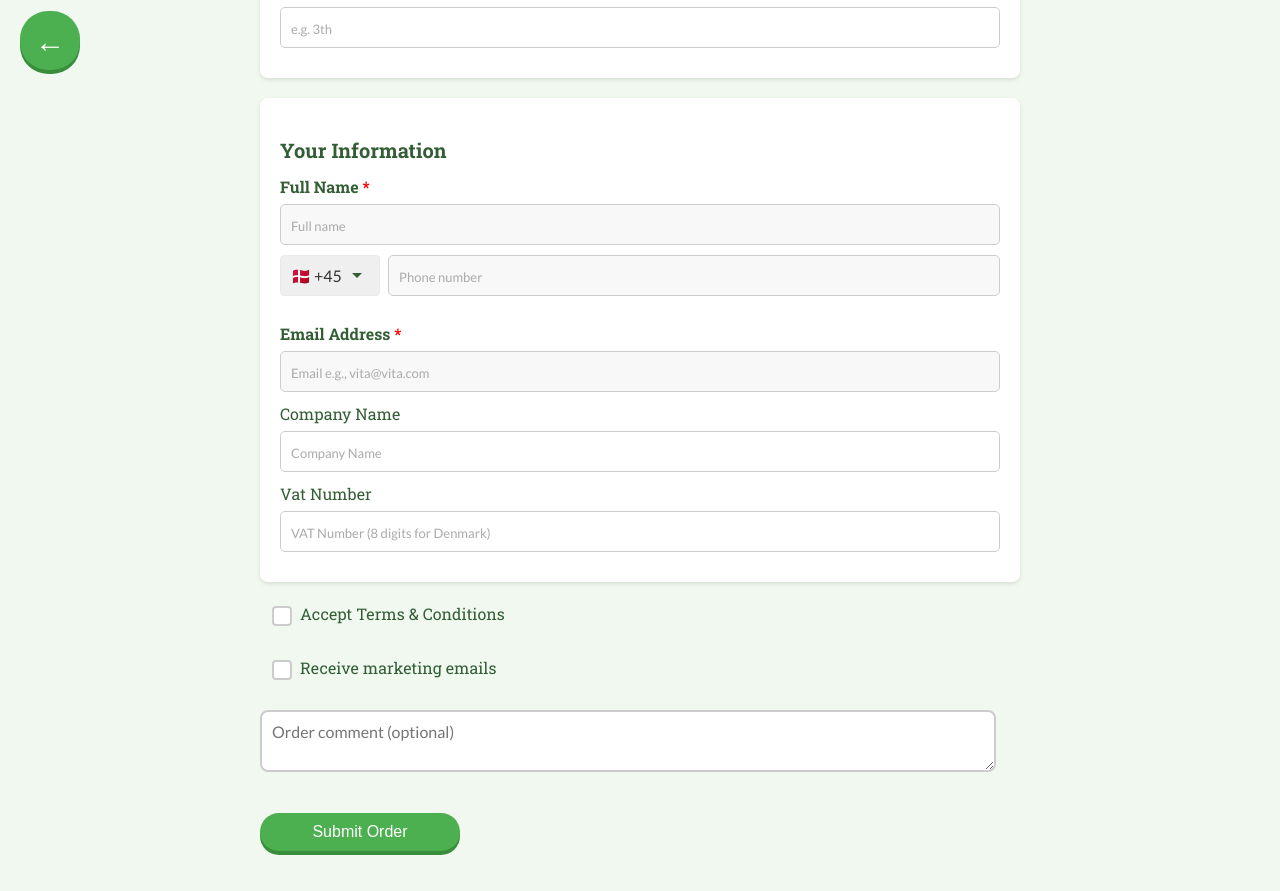
Test case: Checkout component › validates form fields correctly (Delivery)
(page scrolled)
Step 1. Click the button "Submit Order" → (360, 832), box 260,813 -> 460,851
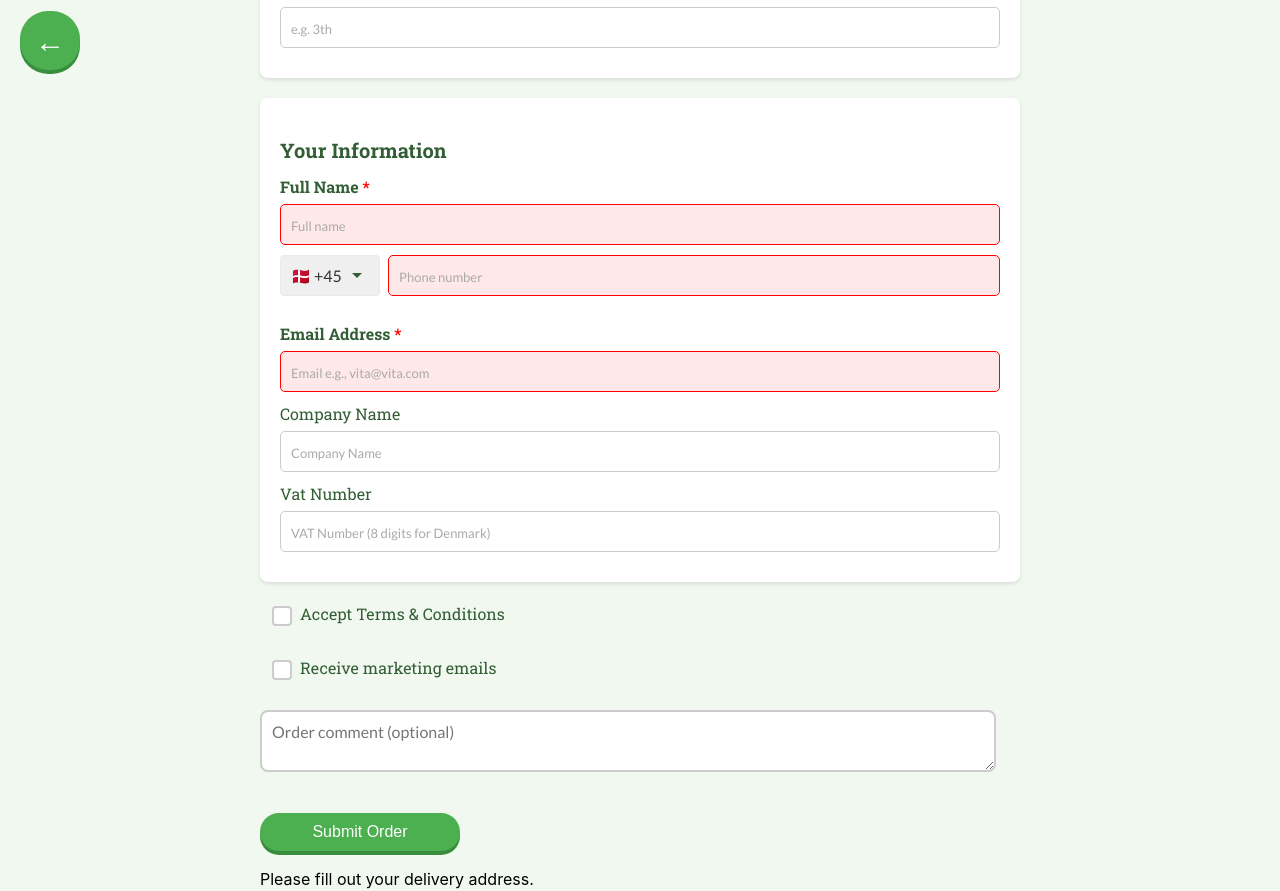
Result: the text "Please fill out your delivery address." is shown at 260,869 -> 534,889
